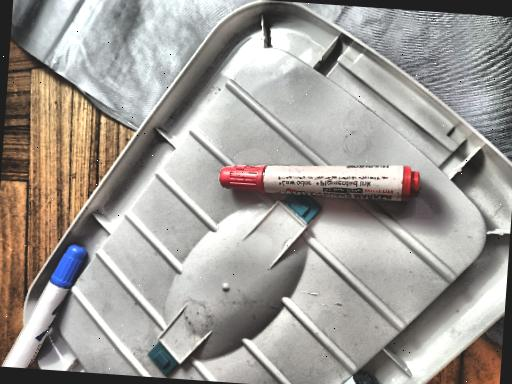marcador azul: (2, 244, 86, 369)
marcador rojo: (218, 165, 420, 201)
